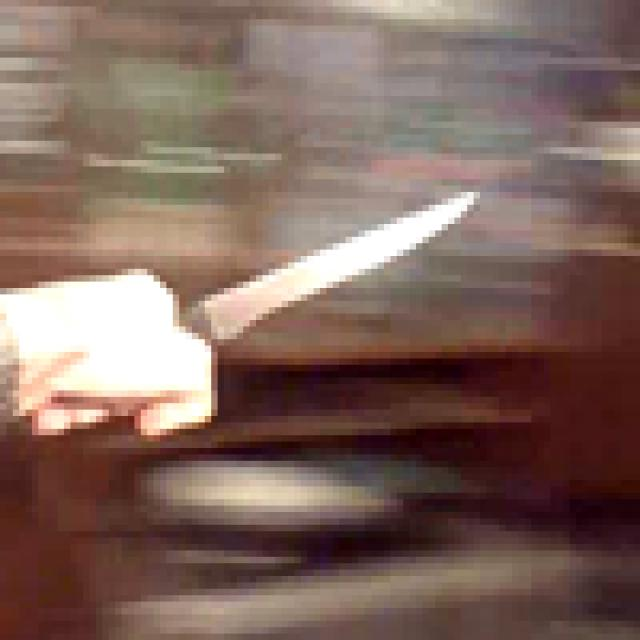Knife: (147, 173, 499, 422)
